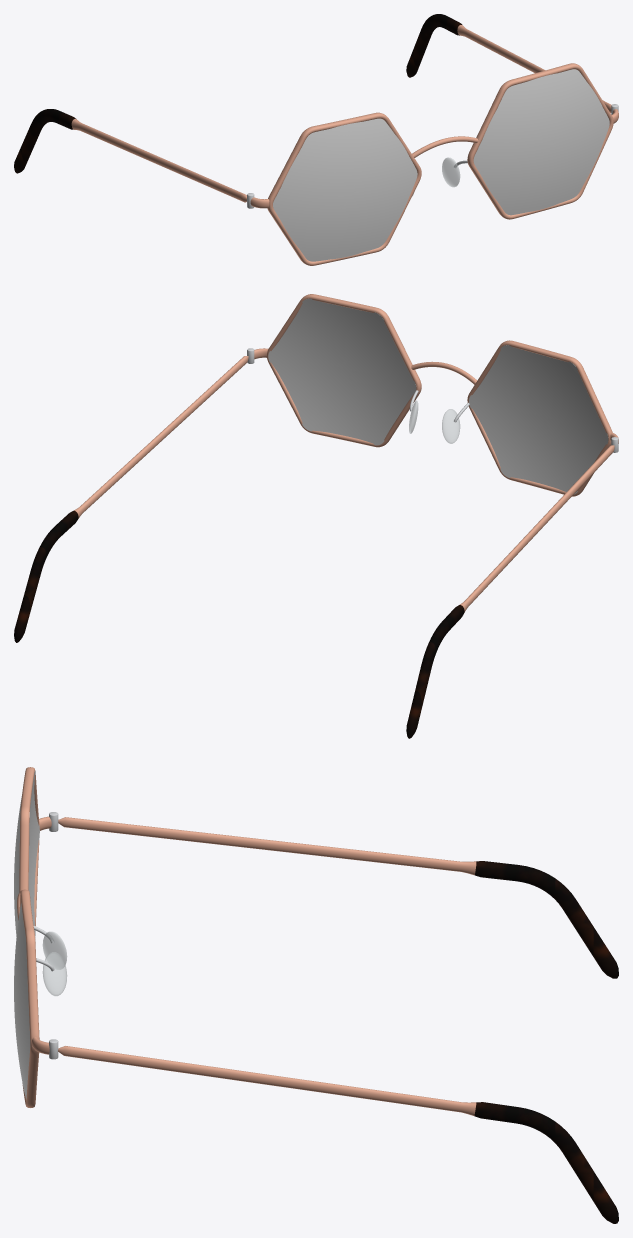
The model's file is vera-s.glb.
The picture shows the model from 3 angles, top to bottom: view 1: azimuth 30°, elevation 25°; view 2: azimuth 150°, elevation 25°; view 3: azimuth 270°, elevation 25°; orthographic projection. The views are drawn at different scales.
Visible parts, largest first — view 1: Lens_R, Lens_L, Front, Temple_R, Temple_L, NosePads; view 2: Lens_L, Lens_R, Front, Temple_L, Temple_R, NosePads; view 3: Temple_L, Temple_R, Front, Lens_L, Lens_R, NosePads.
Boxes of the visible parts, x1,y1,x2,y2 form: Lens_R: (273, 118, 417, 261); Lens_L: (473, 69, 609, 215); Front: (247, 63, 618, 265); Temple_R: (14, 109, 246, 202); Temple_L: (406, 14, 611, 112); NosePads: (412, 157, 460, 195); Lens_L: (268, 298, 416, 445); Lens_R: (469, 345, 608, 494); Front: (247, 294, 618, 496); Temple_L: (14, 356, 248, 642); Temple_R: (406, 445, 614, 738); NosePads: (409, 400, 460, 443); Temple_L: (58, 1046, 618, 1223); Temple_R: (58, 817, 618, 978); Front: (17, 767, 58, 1107); Lens_L: (14, 903, 35, 1098); Lens_R: (14, 771, 39, 936); NosePads: (42, 931, 67, 996).
Bounding box in the file's own units: 0.1327 × 0.0623 × 0.1356.
Materials: 6 (1 with a texture image).
